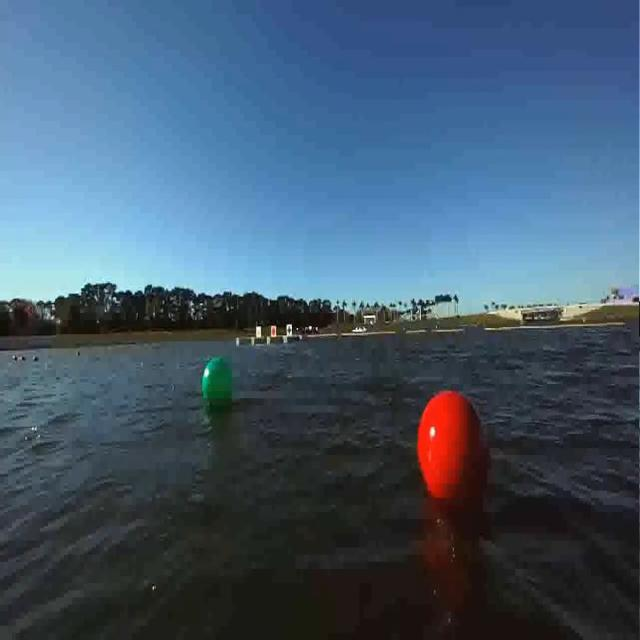green-buoy: (202, 356, 234, 404)
red-buoy: (412, 385, 492, 508)
